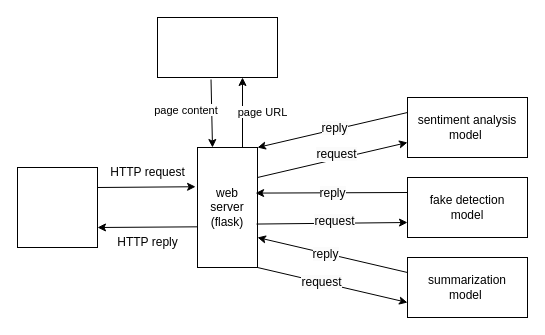
Image size: 545x335. Some labels were removed from this diagram. The shapes that lost their labels are listed below. From the top down, each one's centre as x and y in pixels, then its label:
At point 217,47: "web-scraper".
At point 57,207: "web client".
